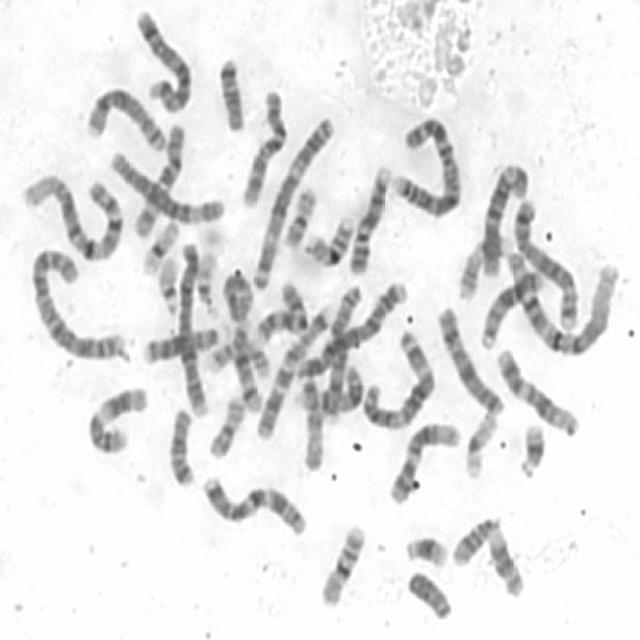A1: (503, 244, 620, 359), (18, 167, 126, 263)
A2: (26, 240, 130, 362), (386, 108, 464, 218)
A3: (247, 110, 337, 292), (358, 322, 439, 431)
B4: (290, 273, 410, 381), (174, 236, 212, 418)
B5: (509, 192, 581, 334), (130, 1, 196, 114)
C10: (129, 117, 188, 240), (238, 83, 290, 209)
C11: (448, 510, 528, 600), (82, 378, 151, 456)
C12: (491, 340, 582, 438), (385, 414, 463, 507)
C6: (105, 144, 227, 224), (478, 155, 532, 277)
C7: (253, 301, 335, 442), (197, 468, 310, 537)
C8: (318, 278, 366, 422), (80, 80, 169, 154)
C9: (344, 156, 396, 276), (249, 277, 309, 346)
D13: (476, 263, 546, 351), (139, 319, 228, 368)
D14: (289, 364, 363, 419), (228, 320, 265, 420)
D15: (292, 369, 326, 472), (223, 269, 259, 322)
E16: (316, 516, 368, 610), (300, 206, 357, 268)
E17: (454, 226, 510, 302), (203, 335, 273, 379)
E18: (213, 49, 249, 134), (163, 401, 198, 487)
F19: (460, 404, 501, 479), (136, 213, 182, 277)
F20: (204, 389, 248, 460), (279, 179, 319, 248)
G21: (513, 415, 548, 480), (400, 527, 450, 569)
G22: (153, 248, 183, 316), (192, 244, 220, 313)
X: (433, 300, 508, 418)
Y: (402, 562, 454, 622)
